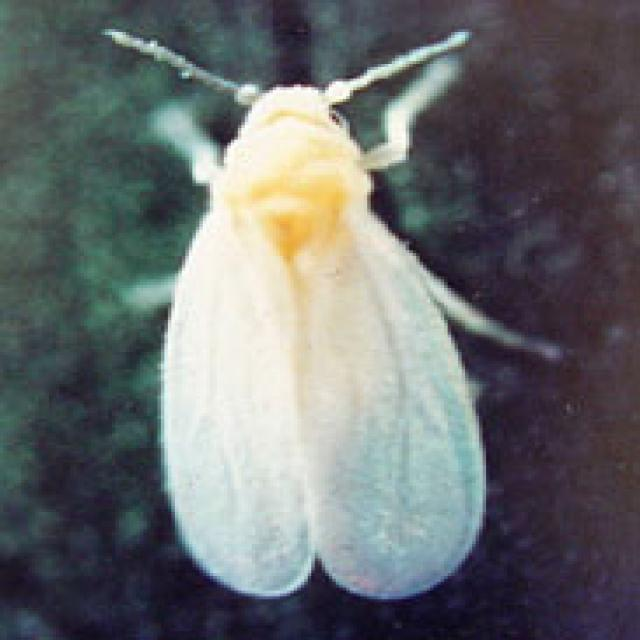Whitefly: (70, 15, 581, 620)
